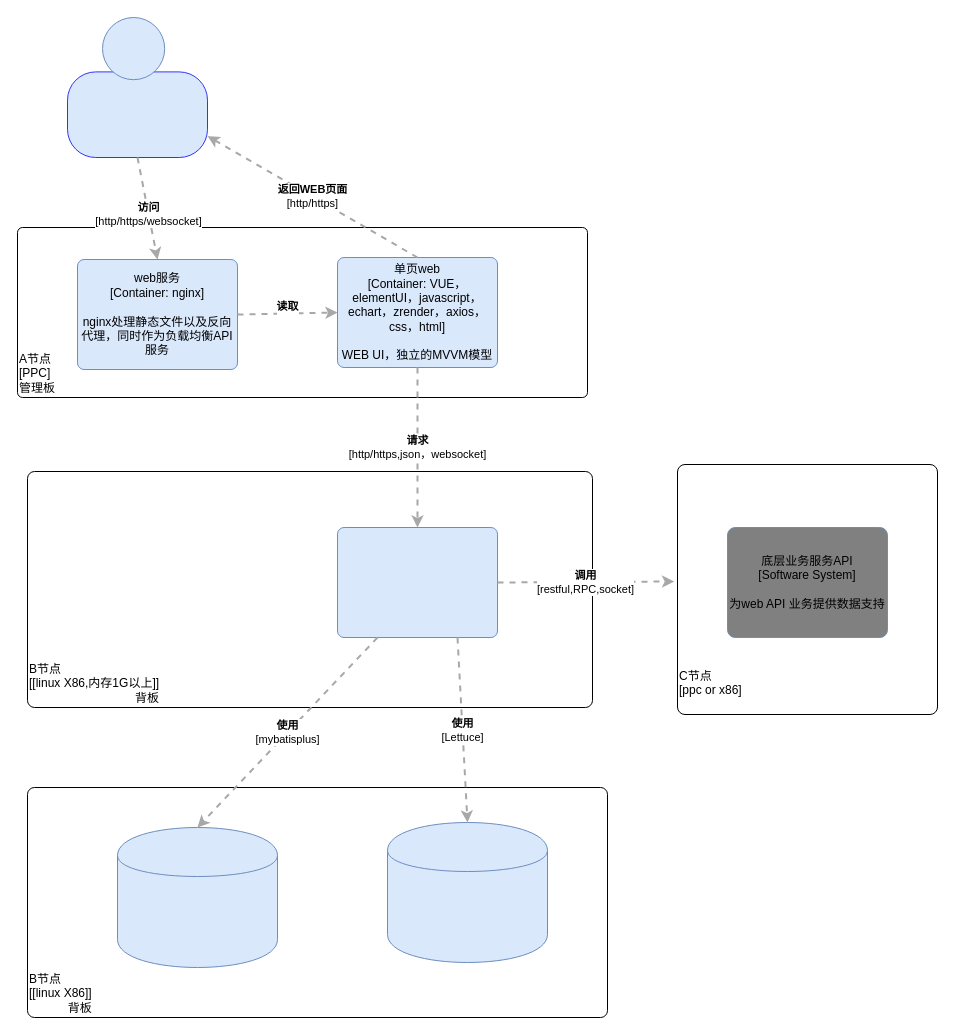
Image size: 955x1035. Some labels were removed from this diagram. The centre of each missing label's shape, as x and y in pixels:
API业务 [Container: java，Spring boot，Spring MVC ] 提供单页web api 服务: [417,582]
NoSql [Container: redis] 提供共享会话管理，热点数据备份，消息队列。: [467,892]
关系数据库 [Container: mysql] 提供筛选，排序，关联多表业务数据: [197,897]
设备使用人员 [Person] 浏览器访问: [137,114]
